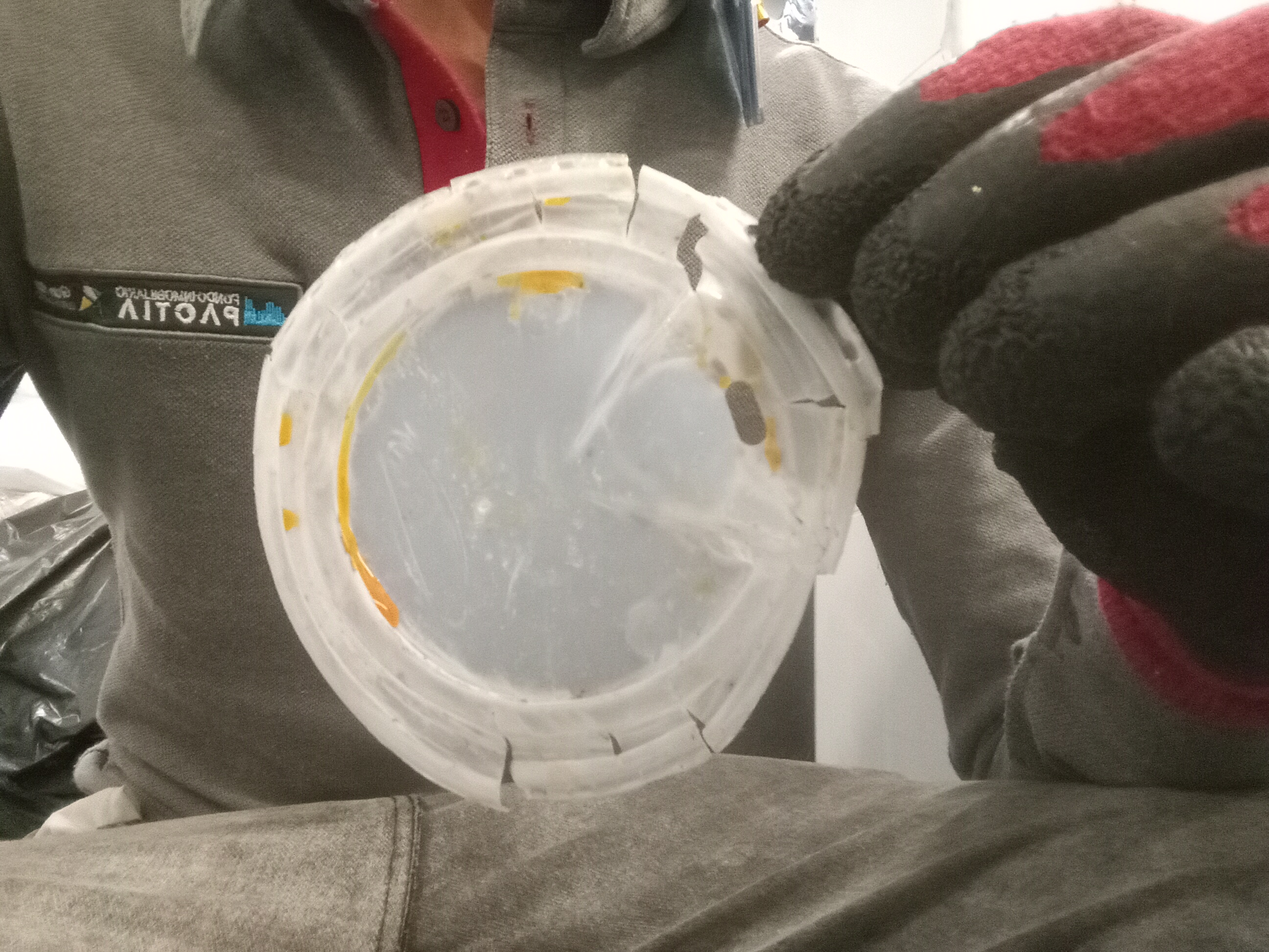Ordinario: (250, 155, 888, 813)
